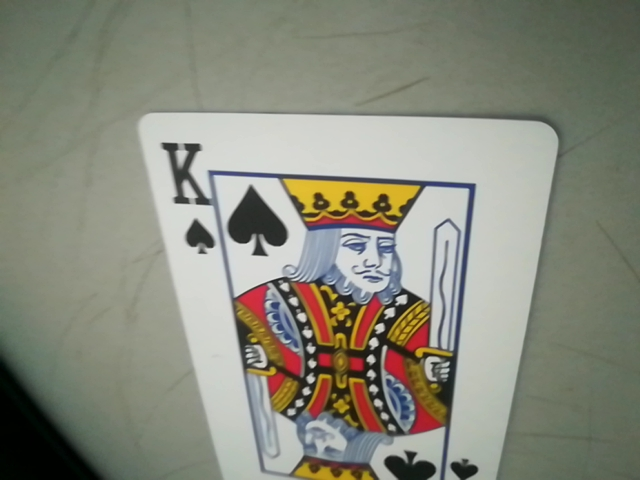ht k: (152, 130, 226, 260)
